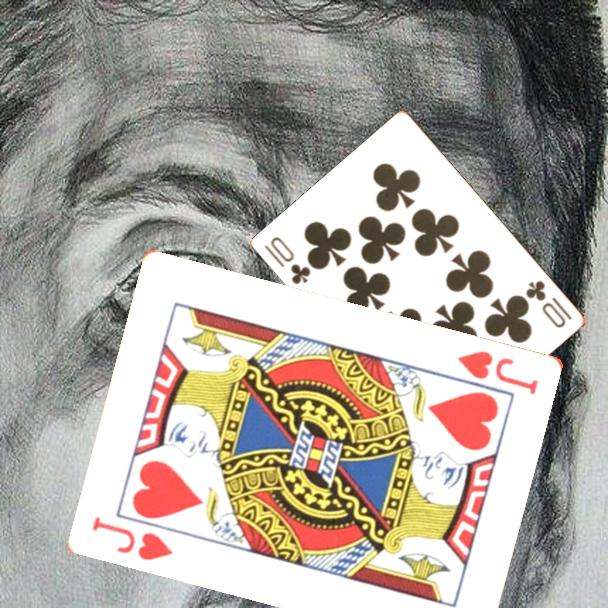c10: (522, 276, 576, 331), (261, 233, 314, 287)
h11: (454, 347, 542, 398), (89, 512, 177, 563)
